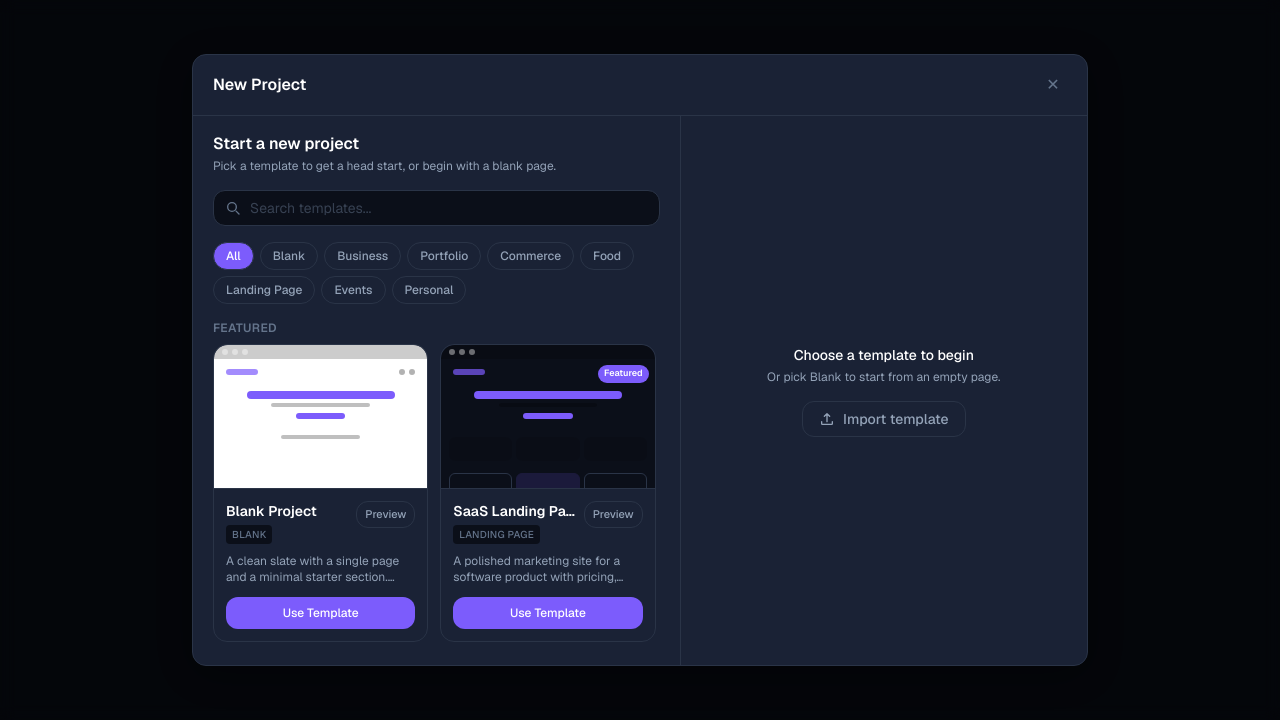
NewProjectDialog › selecting Blank sets default name to Untitled Project
Click the button "Use Template" below "Blank Project" at [321, 613], box [226,597,415,629]
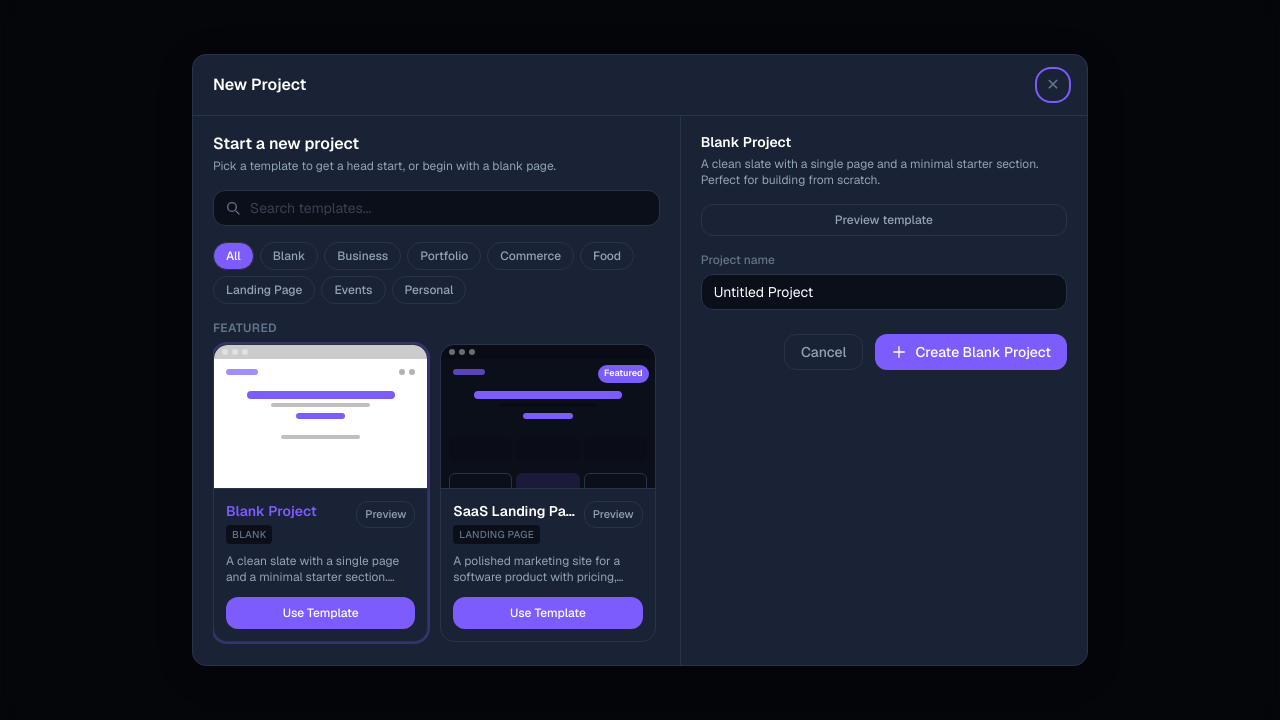
Expected: the field labelled "Project name" holds "Untitled Project", [701,274,1067,310]
